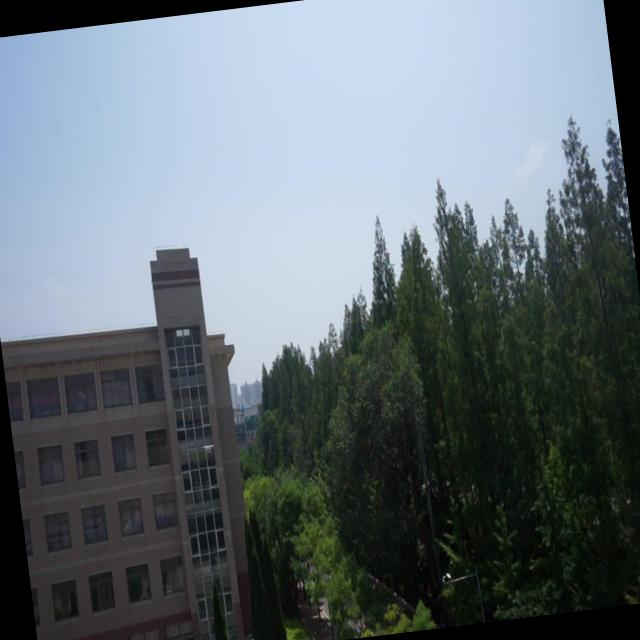drone: (200, 439, 220, 457)
